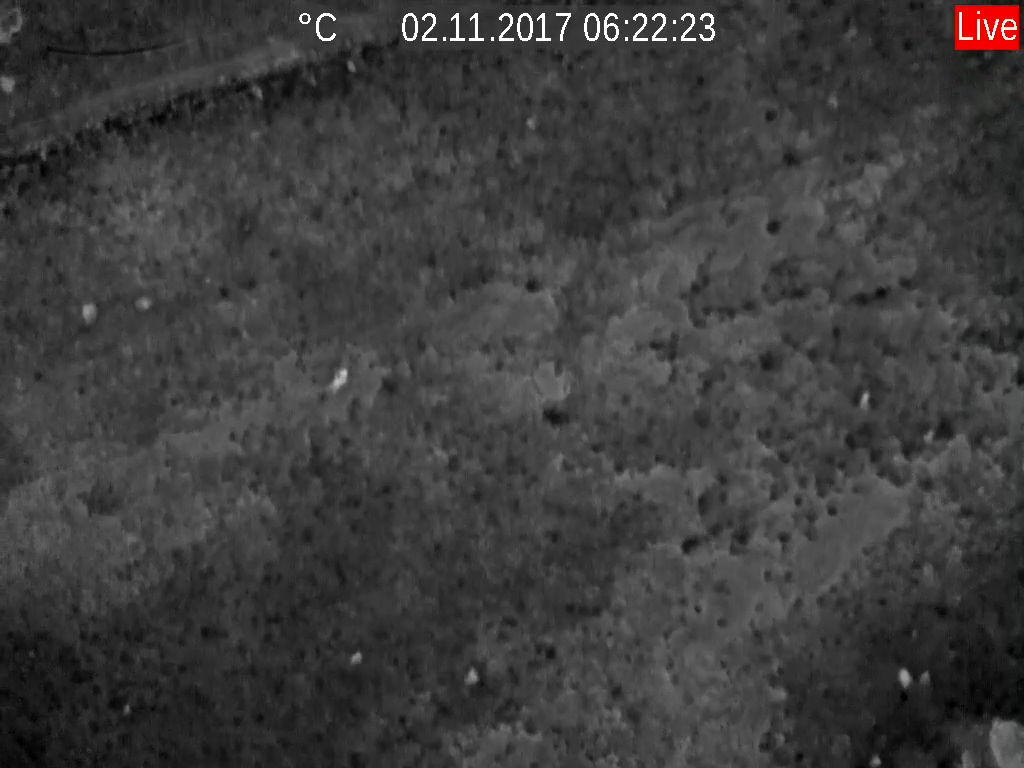warren: (323, 364, 357, 397), (890, 661, 918, 692), (855, 386, 876, 413)
